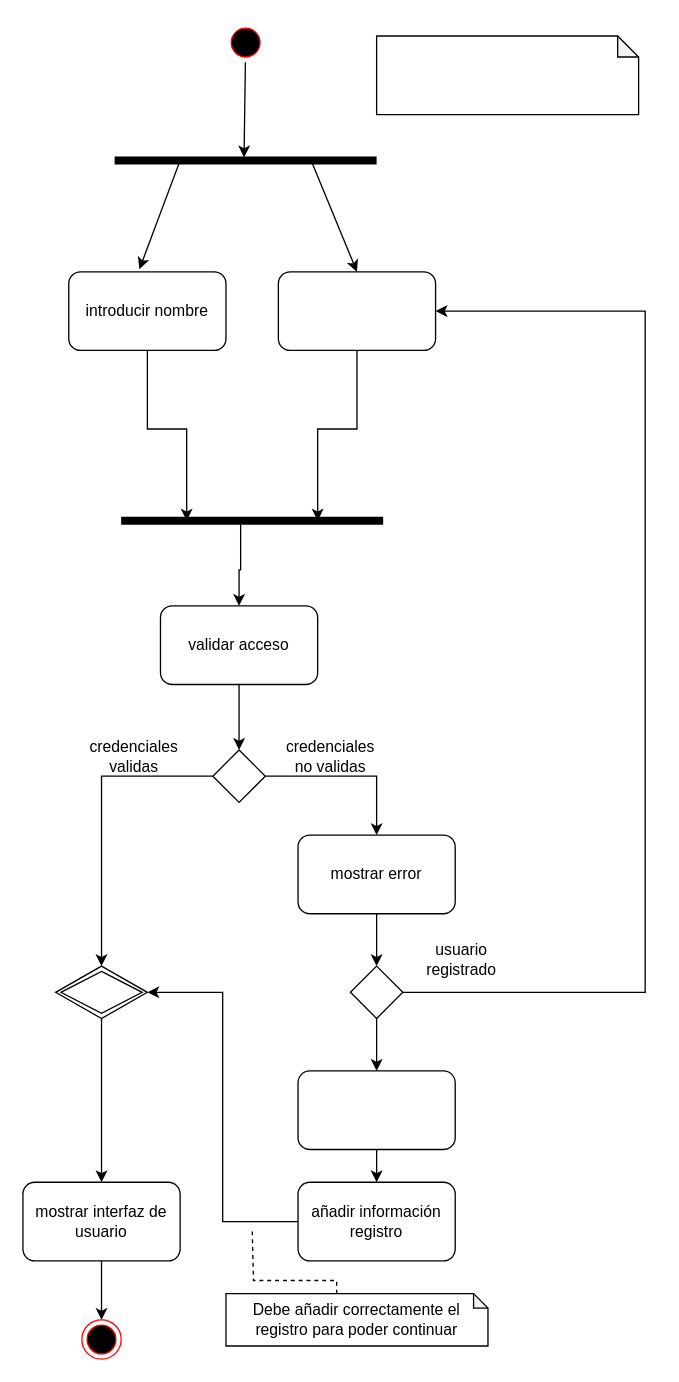
This 679x1382 diagram has some shape labels left out. Here are the shapes that lost their labels. From the top down, the box of each, then its label:
(375, 35, 639, 115): Jose Manuel Moreno Bolivar 52659570N 1ºDAM
(277, 271, 436, 350): introducir password
(297, 1070, 455, 1150): registrar nuevo usuario
